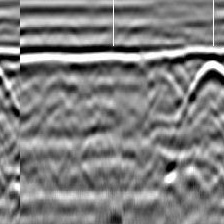Utility: (185, 58, 224, 118)
